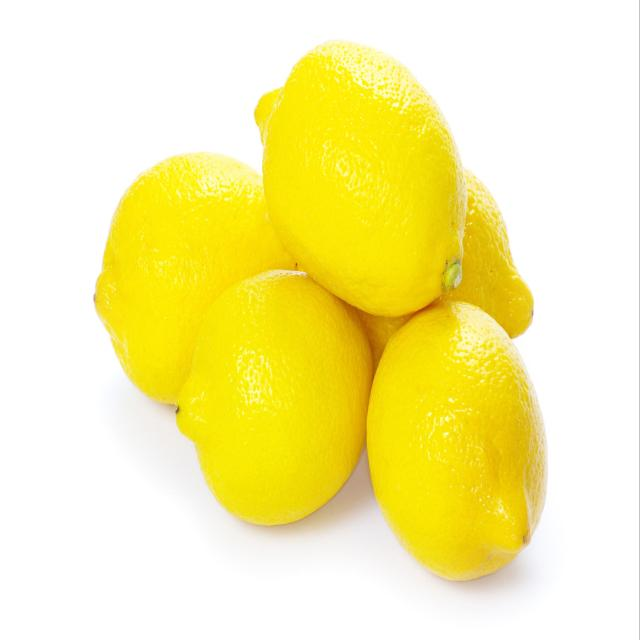lemon: (252, 38, 471, 320)
